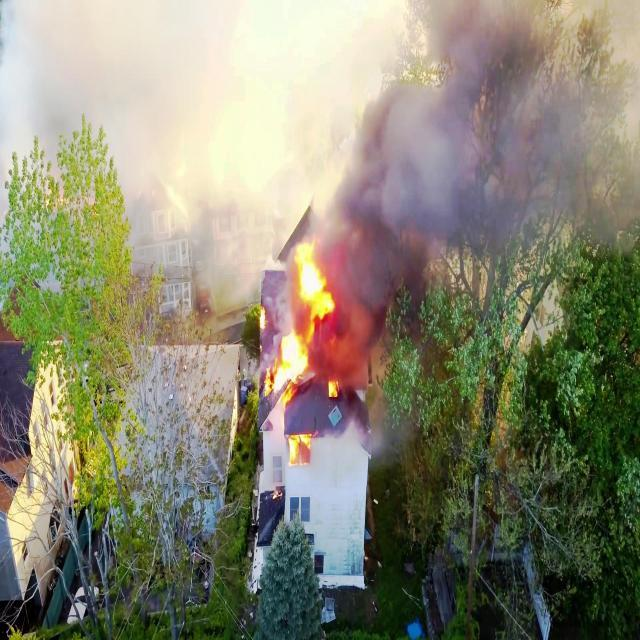Fire: (264, 241, 340, 401), (286, 433, 313, 468), (272, 487, 284, 500)
Smoke: (0, 0, 640, 241), (340, 244, 430, 391), (190, 244, 260, 314)
